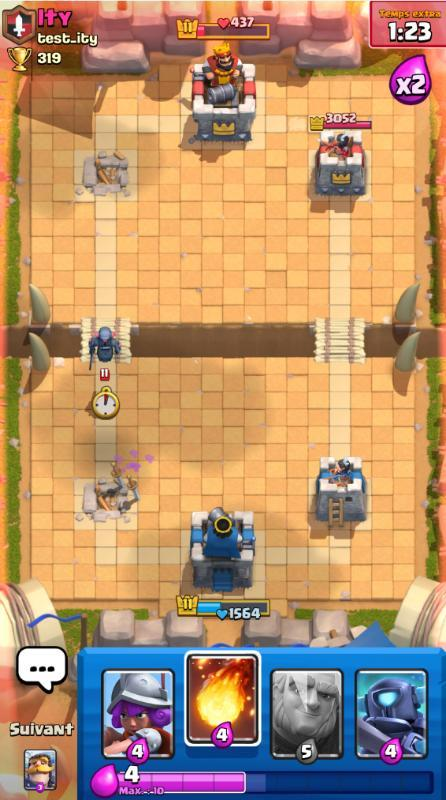mini_PEKKA: (87, 326, 122, 381)
